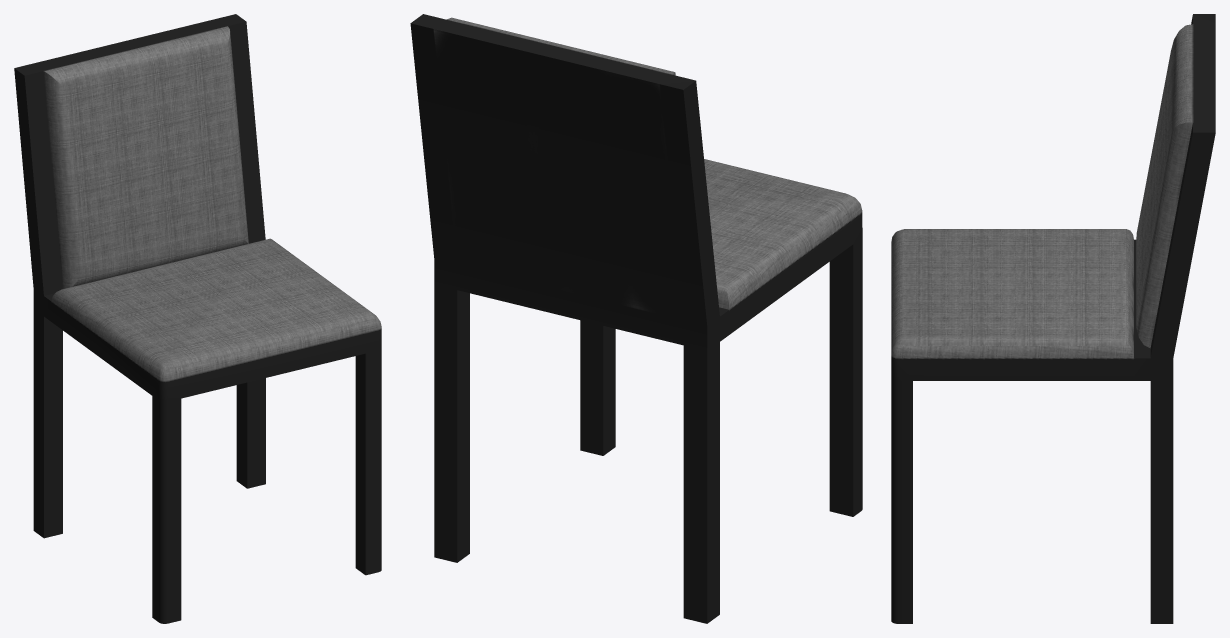
The model's file is Chair6.fbx.
3 renders of one model, left to right at view 1: azimuth 30°, elevation 25°; view 2: azimuth 150°, elevation 25°; view 3: azimuth 270°, elevation 25°, orthographic. The views are drawn at different scales.
Parts seen in each view (by area): view 1: Chair6; view 2: Chair6; view 3: Chair6.
Part boxes in pixels (left/top/right/bottom): Chair6: left=14, top=14, right=381, bottom=623; Chair6: left=410, top=14, right=862, bottom=623; Chair6: left=891, top=14, right=1215, bottom=623.
Size of the model in its own units: 153 by 295 by 177.
